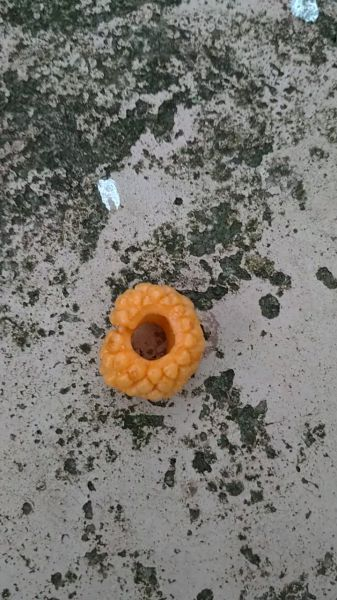eggs: (91, 274, 210, 402)
